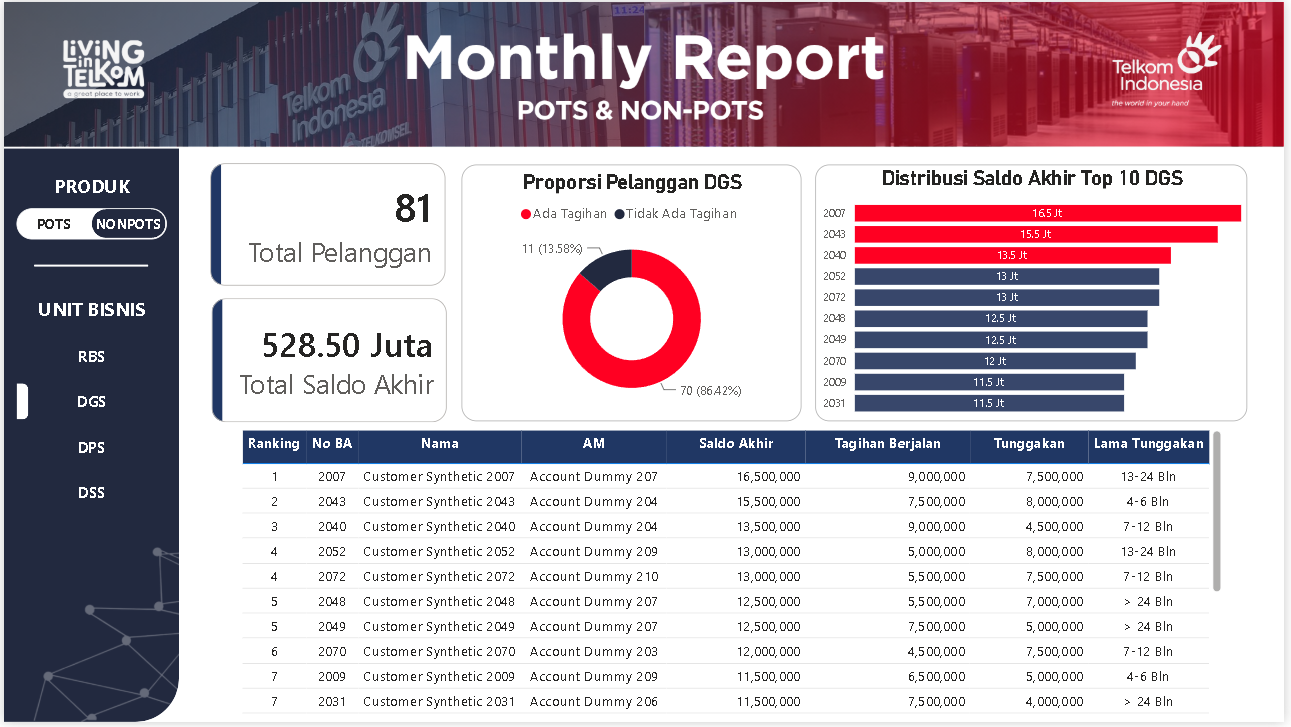

This screenshot's page, from the dashboard's own definition file:
{"tool":"powerbi","page":{"name":"NONPOTS","canvas":[1280,720],"ordinal":1},"visuals":[{"type":"shape","box":[0,146.2,175,573.8],"z":0},{"type":"image","box":[4.4,412.5,190,307.5],"z":1000},{"type":"pageNavigator","box":[12.1,206,150,31.4],"z":2000},{"type":"shape","box":[30,242.2,114.4,42.2],"z":3000},{"type":"textbox","box":[6.2,288.8,162.5,36.2],"z":4000},{"type":"textbox","box":[6.2,166.2,163.1,36.9],"z":5000},{"type":"actionButton","box":[12.6,330.9,150,45.7],"z":6000},{"type":"actionButton","box":[12.6,376.5,150,45.7],"z":7000},{"type":"actionButton","box":[12.7,422.3,150,45.7],"z":10000},{"type":"actionButton","box":[12.9,468.1,150,45.7],"z":12000},{"type":"shape","box":[12.9,472.4,12.4,36.7],"z":13000},{"type":"tableEx","title":"Tabel DSS","fields":{"Values":["NONPOTS.Ranking","NONPOTS.IDNumber","DETAIL NONPOTS.NAMA","DETAIL NONPOTS.AM","NONPOTS.Saldo Akhir","Sum(NONPOTS.Tagihan N)","NONPOTS.Tunggakan","NONPOTS.Lama Tunggakan"]},"box":[261.7,426.7,930,293.3],"z":21000},{"type":"donutChart","title":"Proporsi Pelanggan DSS","fields":{"Category":["NONPOTS.Kategori Saldo"],"Y":["CountNonNull(NONPOTS.Kategori Saldo)"]},"box":[456.9,163.1,340,256.7],"z":27000},{"type":"cardVisual","title":"Card Pelanggan DSS","fields":{"Data":["CountNonNull(NONPOTS.IDNumber)"]},"box":[206.9,162.3,235.7,122.9],"z":28000},{"type":"cardVisual","title":"Card Saldo DSS","fields":{"Data":["NONPOTS.DSS Total Saldo Akhir Display"]},"box":[206.9,296.2,235.7,124.3],"z":29000},{"type":"clusteredBarChart","title":"Distribusi Saldo Akhir Top 10 DSS","fields":{"Category":["NONPOTS.IDNumber"],"Y":["Sum(NONPOTS.Saldo Akhir)"]},"box":[813.1,163.1,432.3,256.9],"z":30000}]}

Visuals, with their boxes in screenshot pixels (x1, y1, x2, y2), scaled from the page's 1280x720 canvas onto the 1291x727 screenshot:
shape: x1=0, y1=148, x2=177, y2=726
image: x1=4, y1=417, x2=196, y2=726
pageNavigator: x1=12, y1=208, x2=163, y2=240
shape: x1=30, y1=245, x2=146, y2=287
textbox: x1=6, y1=292, x2=170, y2=328
textbox: x1=6, y1=168, x2=171, y2=205
actionButton: x1=13, y1=334, x2=164, y2=380
actionButton: x1=13, y1=380, x2=164, y2=426
actionButton: x1=13, y1=426, x2=164, y2=473
actionButton: x1=13, y1=473, x2=164, y2=519
shape: x1=13, y1=477, x2=26, y2=514
"Tabel DSS" tableEx: x1=264, y1=431, x2=1202, y2=726
"Proporsi Pelanggan DSS" donutChart: x1=461, y1=165, x2=804, y2=424
"Card Pelanggan DSS" cardVisual: x1=209, y1=164, x2=446, y2=288
"Card Saldo DSS" cardVisual: x1=209, y1=299, x2=446, y2=425
"Distribusi Saldo Akhir Top 10 DSS" clusteredBarChart: x1=820, y1=165, x2=1256, y2=424
